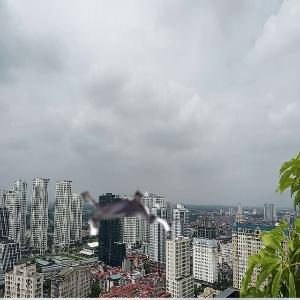drone: (69, 158, 169, 258)
